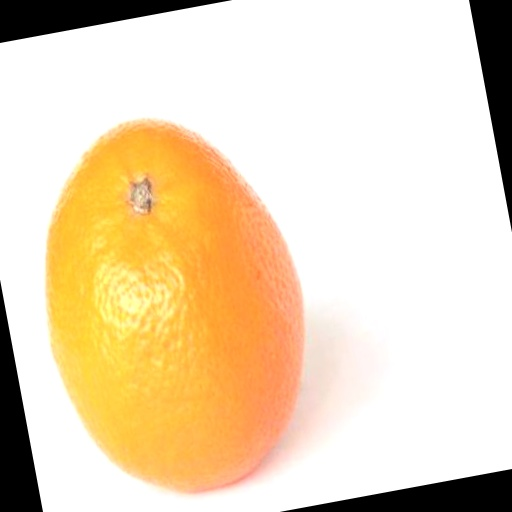fruit: (153, 115, 453, 512)
